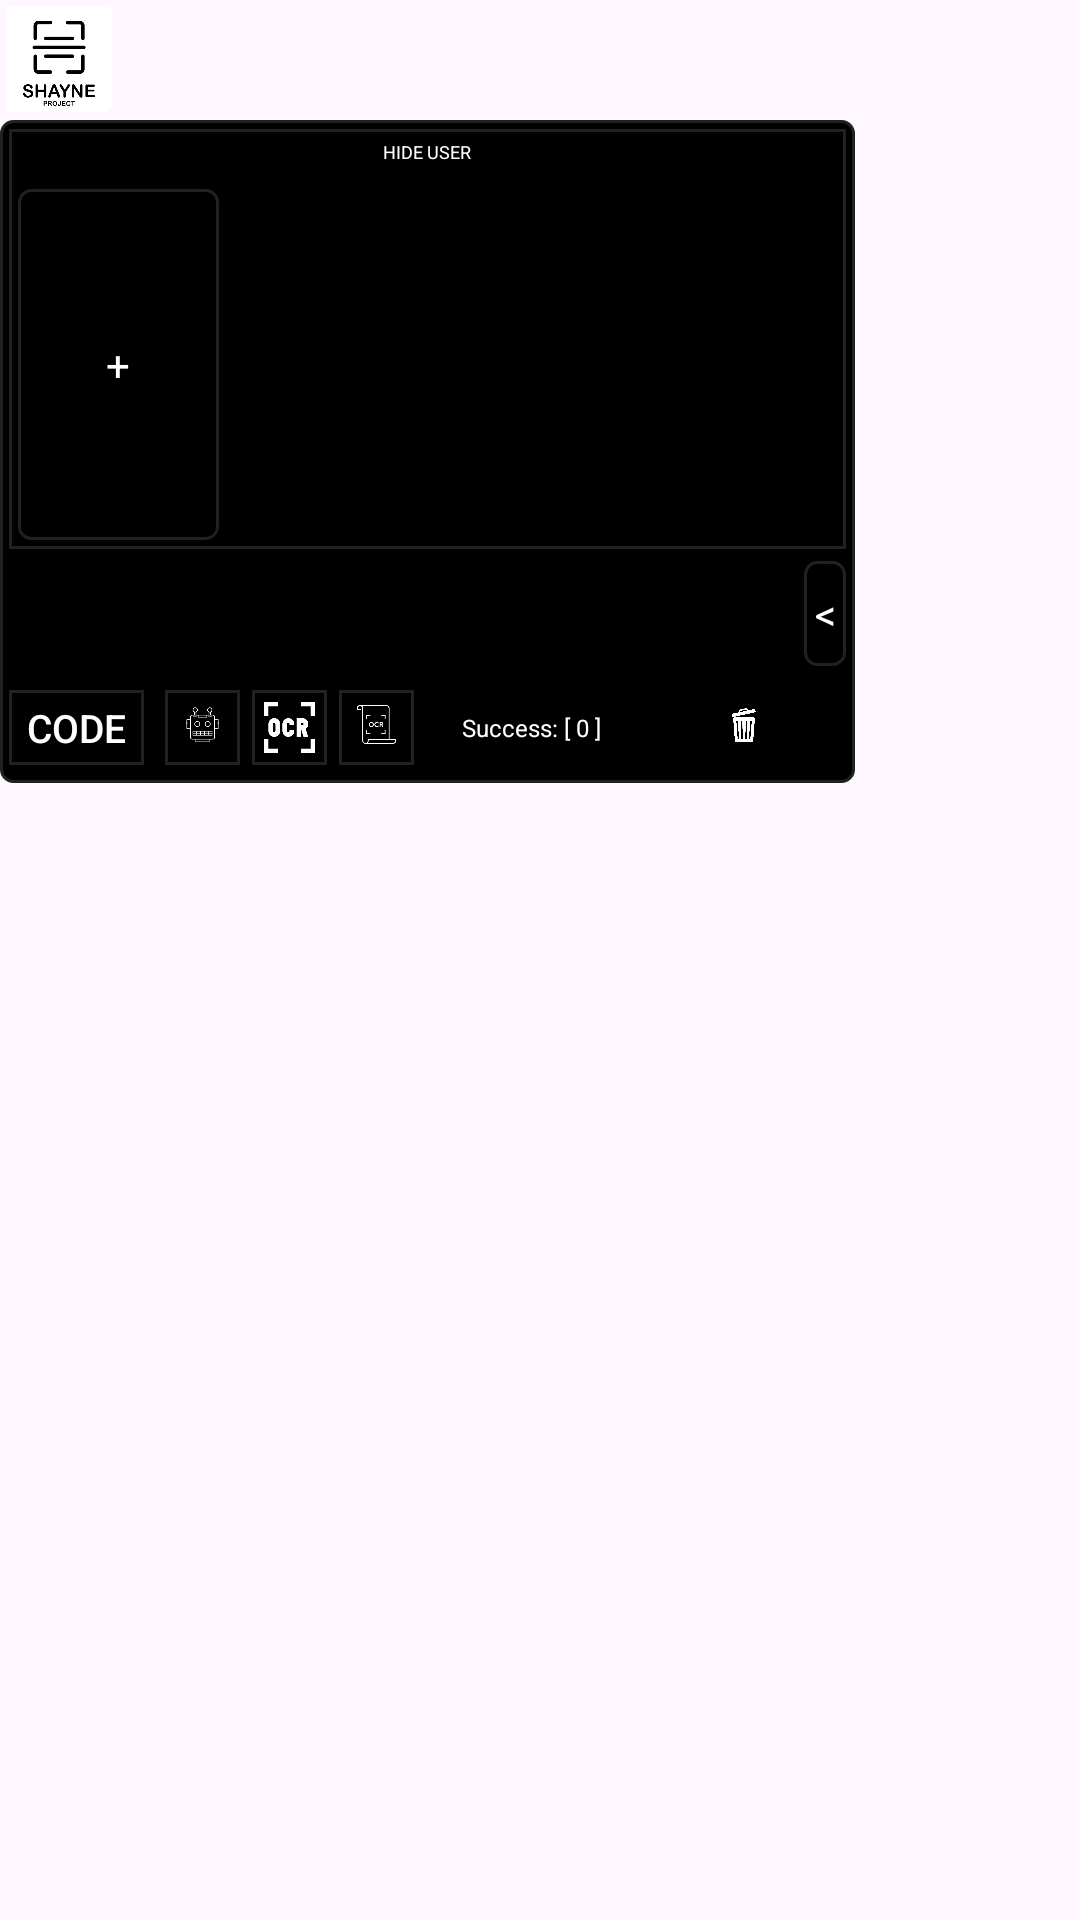

Icon click points for this 1080×1920 phone screenshot, format point (x, y):
clipbot: point (202, 727)
trash: point (744, 725)
